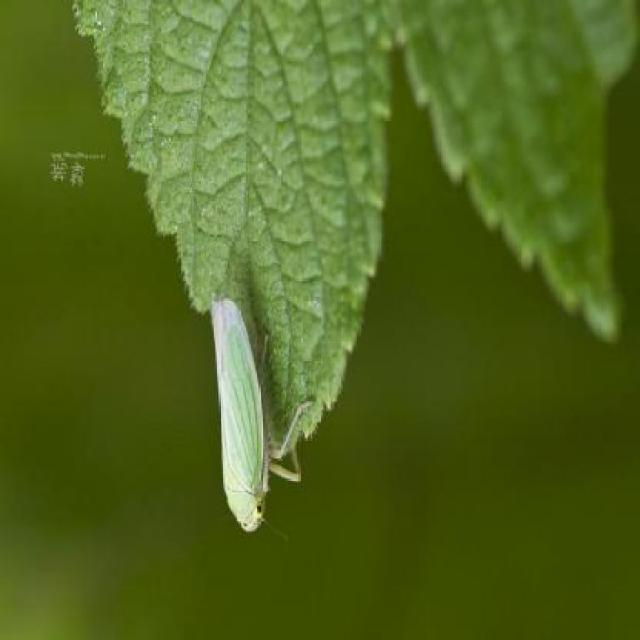green-leafhopper: (209, 291, 314, 535)
